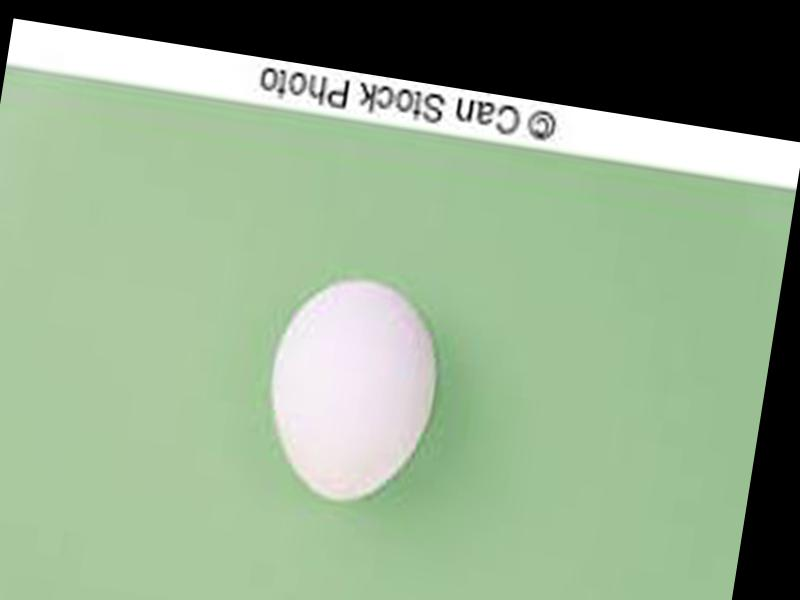Eggs: (257, 270, 448, 511)
